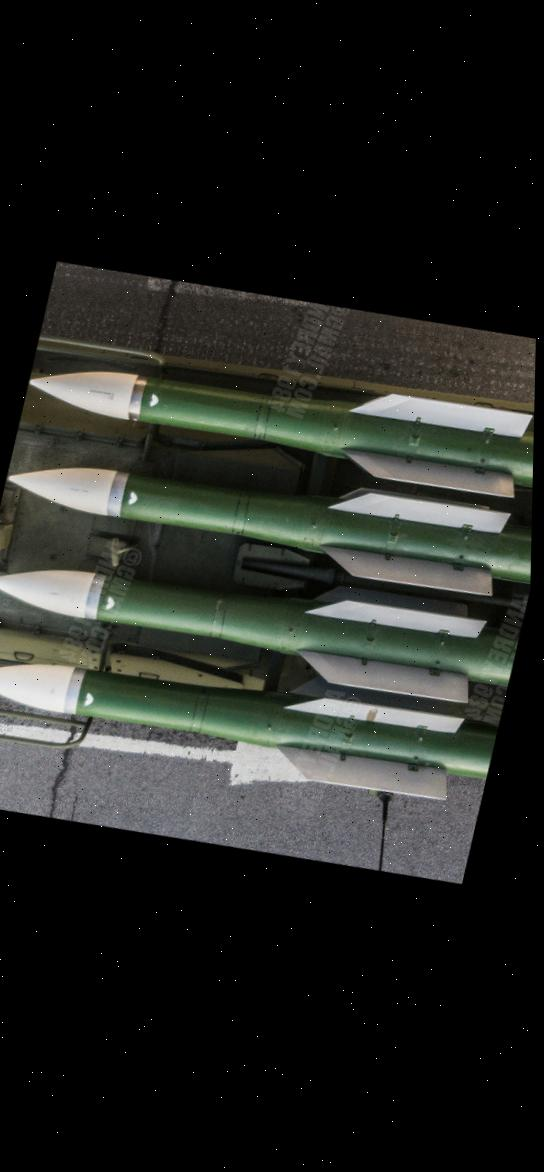armored_car: (0, 305, 537, 830)
